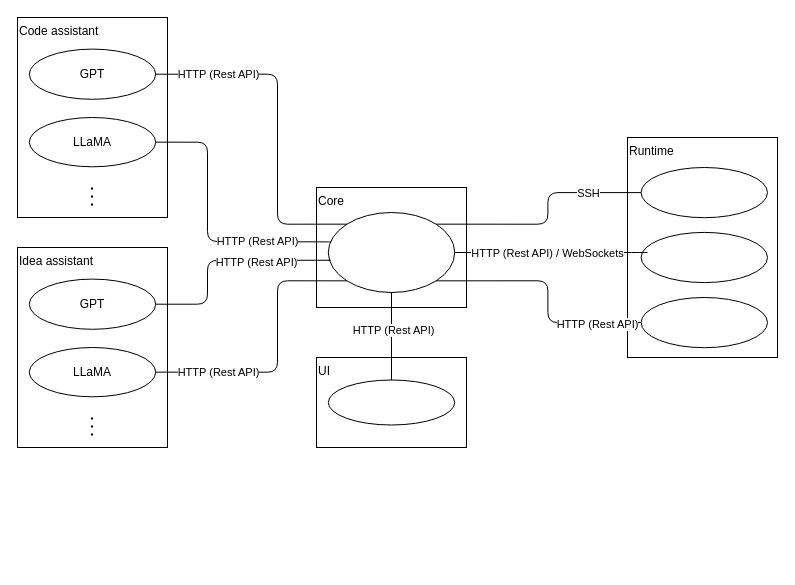
This 795x585 diagram has some shape labels left out. The shapes that lost their labels are listed below. From the top down, each one's centre as x and y in pixels, then its label:
At [704,192]: "Python Runtime".
At [391,252]: "Core Python application".
At [704,257]: "Jupyter Server".
At [704,322]: "Apache Zeppelin".
At [391,402]: "Frontend Application".
